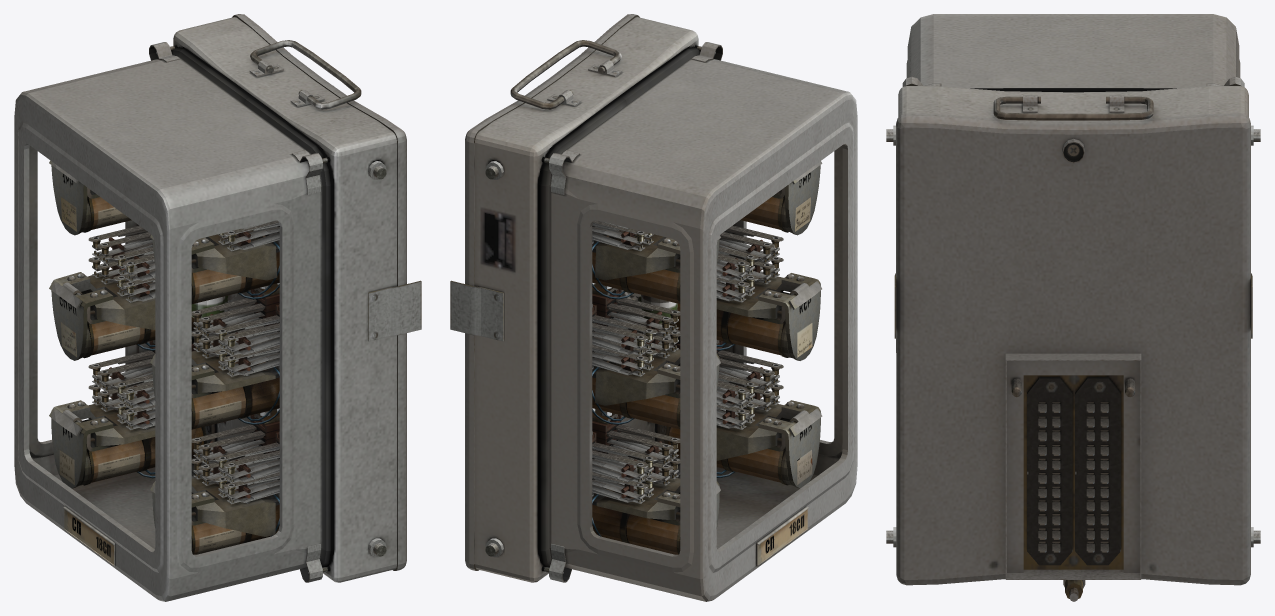
3 renders of one model, left to right at view 1: azimuth 30°, elevation 25°; view 2: azimuth 150°, elevation 25°; view 3: azimuth 270°, elevation 25°, orthographic. The views are drawn at different scales.
Visible parts, largest first — view 1: CP_18, yakorsprp001, Object026, Object030, Object037, Object034, Object022, shild, Object033, Object036, Object029, Object041 (+1 smaller); view 2: CP_18, Object030, Object034, yakorsprp001, Object022, Object026, Object037, shild, Object029, kont_sprp003, Object033, Object036 (+1 smaller); view 3: CP_18.
Part boxes in pixels (bbox=[...]): CP_18: bbox=[14, 14, 421, 601]; yakorsprp001: bbox=[51, 269, 155, 360]; Object026: bbox=[51, 400, 155, 488]; Object030: bbox=[152, 478, 275, 536]; Object037: bbox=[152, 230, 277, 280]; Object034: bbox=[152, 350, 275, 400]; Object022: bbox=[51, 165, 87, 235]; shild: bbox=[63, 506, 115, 566]; Object033: bbox=[193, 439, 279, 479]; Object036: bbox=[193, 312, 279, 352]; Object029: bbox=[92, 367, 154, 405]; Object041: bbox=[193, 335, 279, 372]; CP_18: bbox=[450, 14, 857, 601]; Object030: bbox=[716, 400, 821, 488]; Object034: bbox=[716, 273, 820, 360]; yakorsprp001: bbox=[595, 343, 719, 405]; Object022: bbox=[595, 230, 719, 280]; Object026: bbox=[596, 478, 719, 528]; Object037: bbox=[785, 165, 820, 235]; shild: bbox=[756, 506, 808, 566]; Object029: bbox=[592, 439, 678, 479]; kont_sprp003: bbox=[592, 310, 678, 349]; Object033: bbox=[716, 367, 779, 405]; Object036: bbox=[716, 240, 779, 277]; CP_18: bbox=[886, 14, 1260, 601].
Bounding box in the file's own units: 0.174 × 0.296 × 0.2056.
